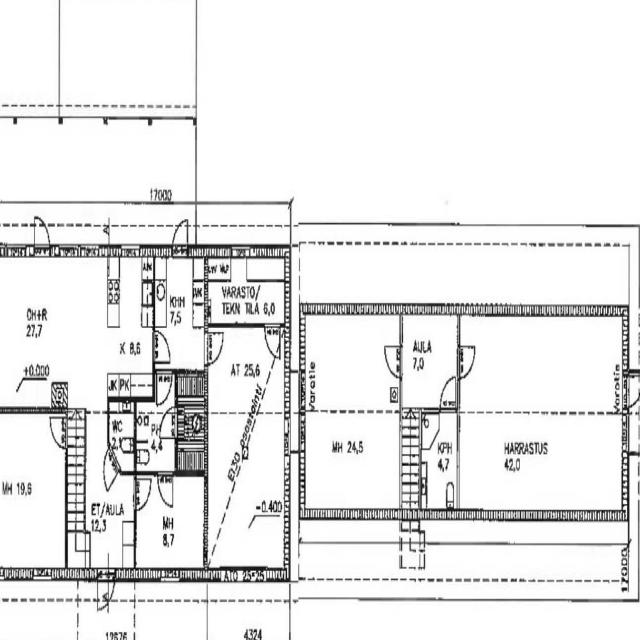door: (97, 444, 120, 490), (97, 568, 114, 616), (34, 211, 50, 257), (172, 212, 188, 257), (204, 332, 224, 365), (152, 330, 171, 364), (156, 368, 172, 408), (456, 346, 476, 378), (621, 375, 640, 407), (440, 375, 456, 413), (384, 345, 402, 378), (157, 472, 173, 508), (160, 408, 178, 439), (50, 417, 68, 448), (264, 324, 280, 358), (134, 480, 152, 510)
